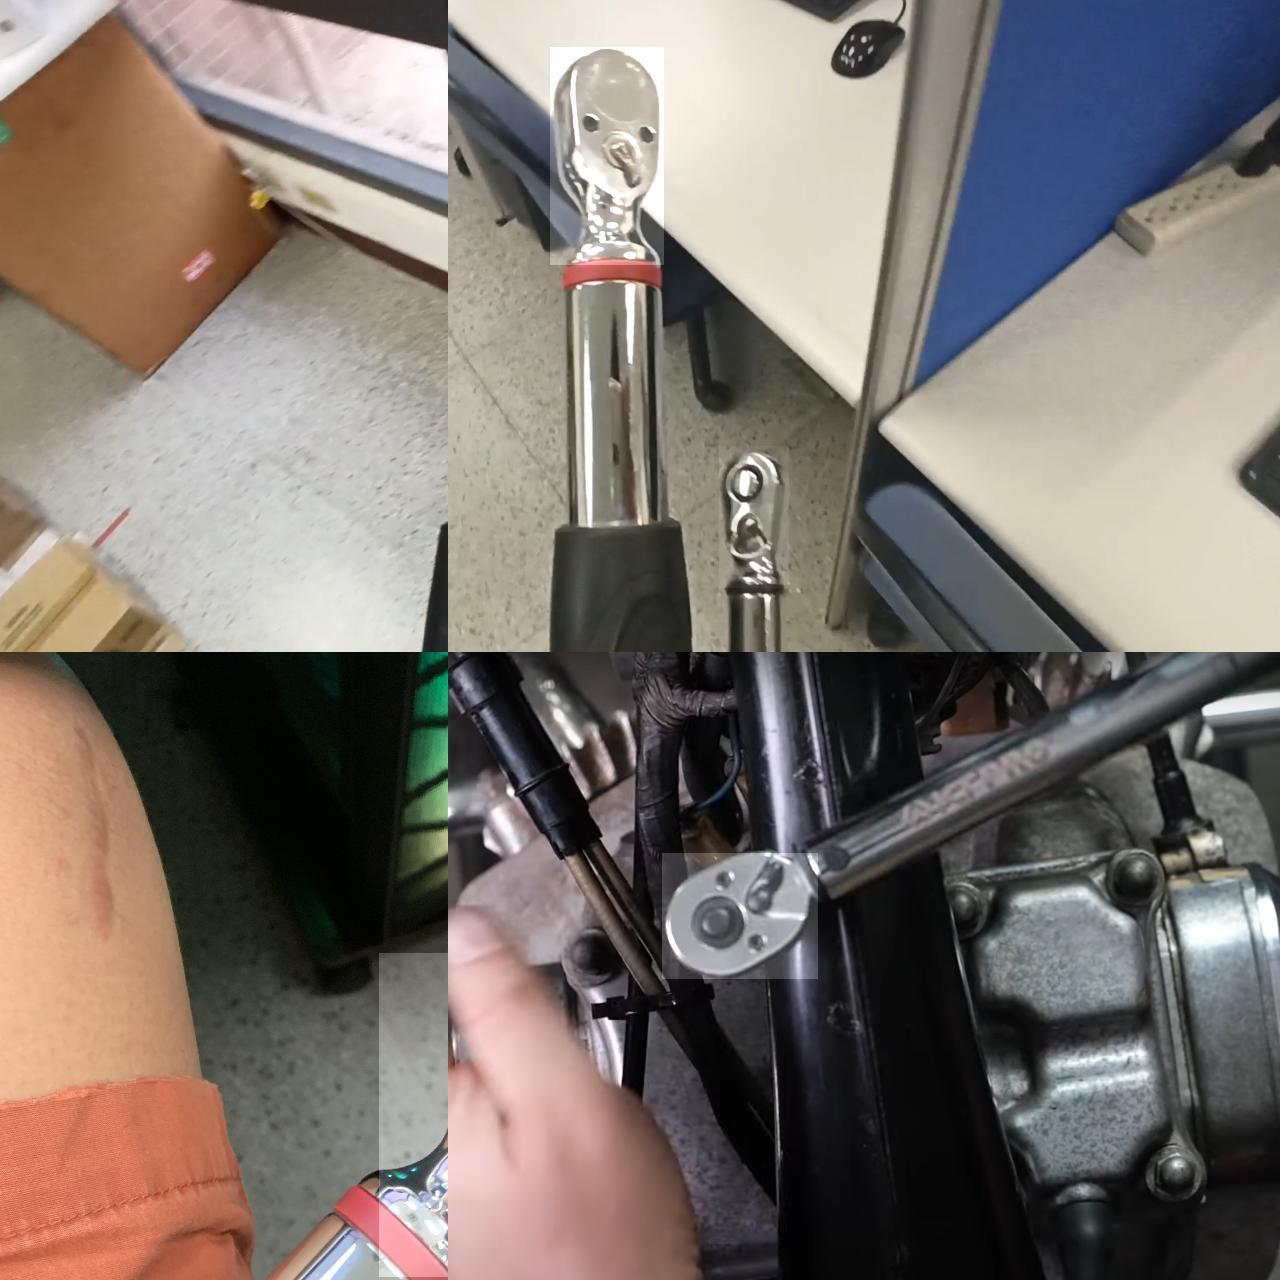Tool: (549, 46, 663, 264), (377, 952, 448, 1276), (661, 852, 817, 978), (719, 445, 788, 587)
